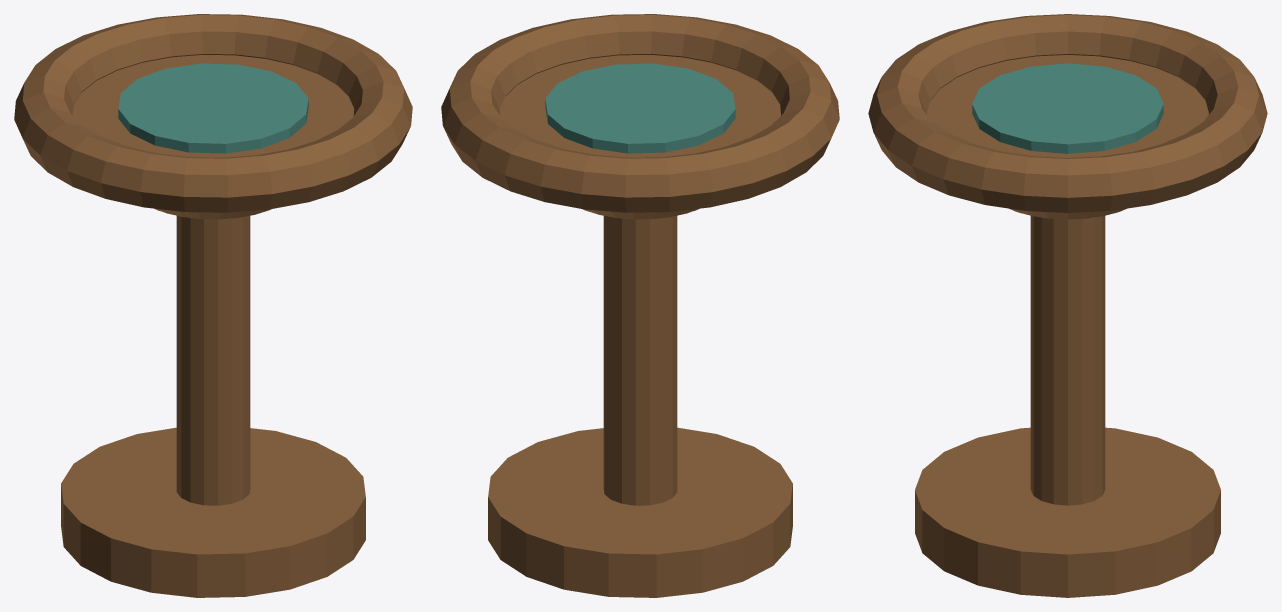
Rendered from Greek_Bronze_Brazier.fbx.
3 views of the same model, side by side, from view 1: azimuth 30°, elevation 25°; view 2: azimuth 150°, elevation 25°; view 3: azimuth 270°, elevation 25° (orthographic).
Parts seen in each view (by area): view 1: Greek_Bronze_Brazier - Aged Bronze, Greek_Bronze_Brazier - Bronze Patina; view 2: Greek_Bronze_Brazier - Aged Bronze, Greek_Bronze_Brazier - Bronze Patina; view 3: Greek_Bronze_Brazier - Aged Bronze, Greek_Bronze_Brazier - Bronze Patina.
Part boxes in pixels (left/top/right/bottom): Greek_Bronze_Brazier - Aged Bronze: left=14, top=14, right=412, bottom=597; Greek_Bronze_Brazier - Bronze Patina: left=118, top=63, right=308, bottom=219; Greek_Bronze_Brazier - Aged Bronze: left=441, top=14, right=839, bottom=597; Greek_Bronze_Brazier - Bronze Patina: left=545, top=63, right=735, bottom=219; Greek_Bronze_Brazier - Aged Bronze: left=868, top=14, right=1267, bottom=597; Greek_Bronze_Brazier - Bronze Patina: left=972, top=63, right=1163, bottom=217.
Bounding box in the file's own units: 3 × 3.7 × 3.
